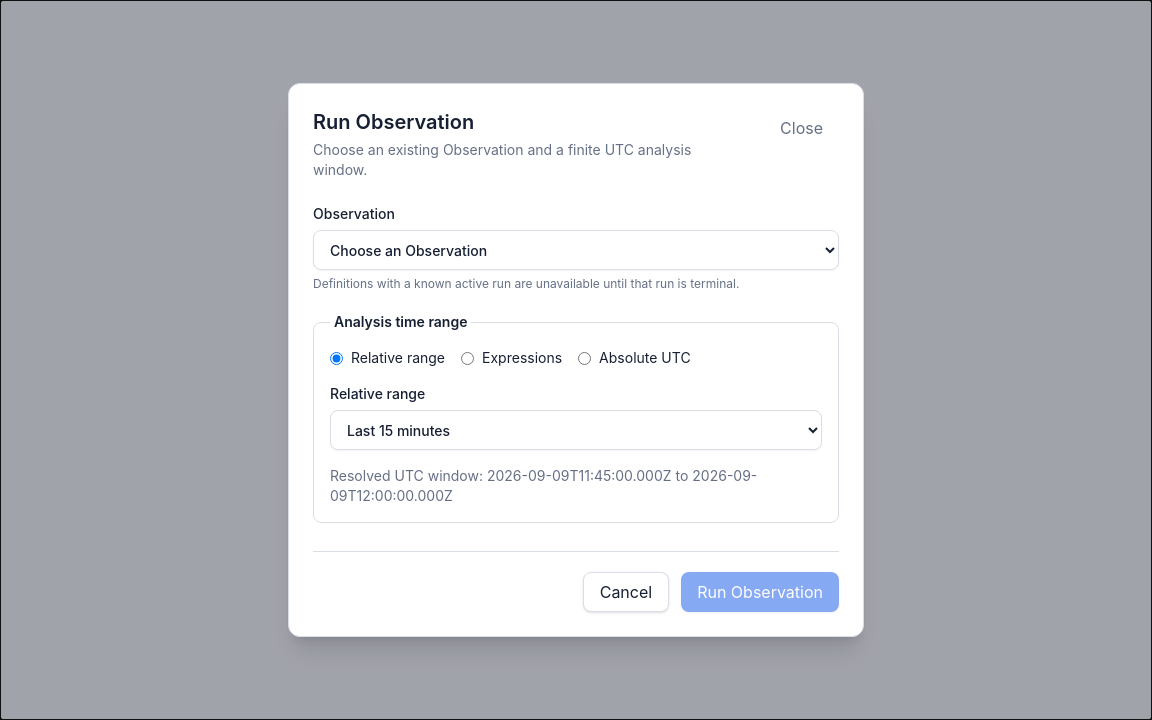
RunObservationDialog › requires complete absolute UTC fields and shows validation feedback before launch
This screenshot has width=1152, height=720.
Select "Never run first" in the dropdown named "Observation to run". click: [576, 250]
box: [313,230,839,270]
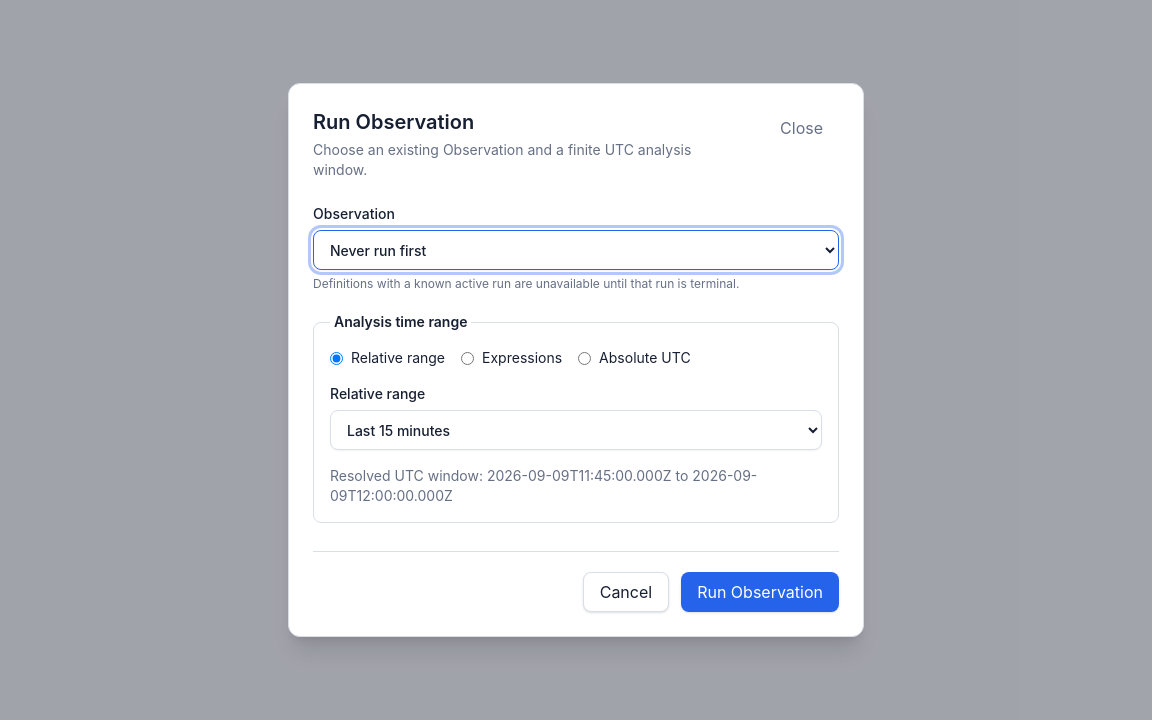
Click the radio button labelled "Absolute UTC". click: [585, 358]
box: [578,352,591,364]
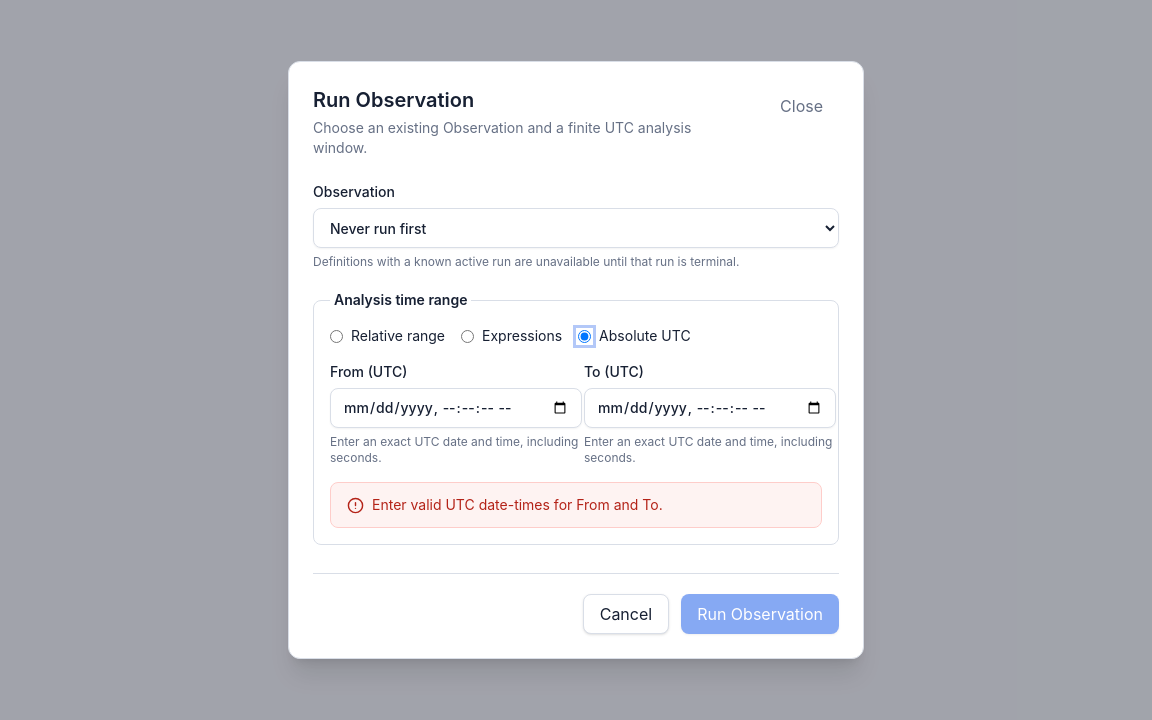
expect the field labelled "From (UTC)" is empty: met
expect the field labelled "To (UTC)" is empty: met, box [584,388,836,428]
expect the button "Run Observation" is disabled: met, box [681,594,839,634]
Type "2026-09-09T10:00:00" into the field labelled "From (UTC)". click: [456, 408]
box: [330,388,582,428]
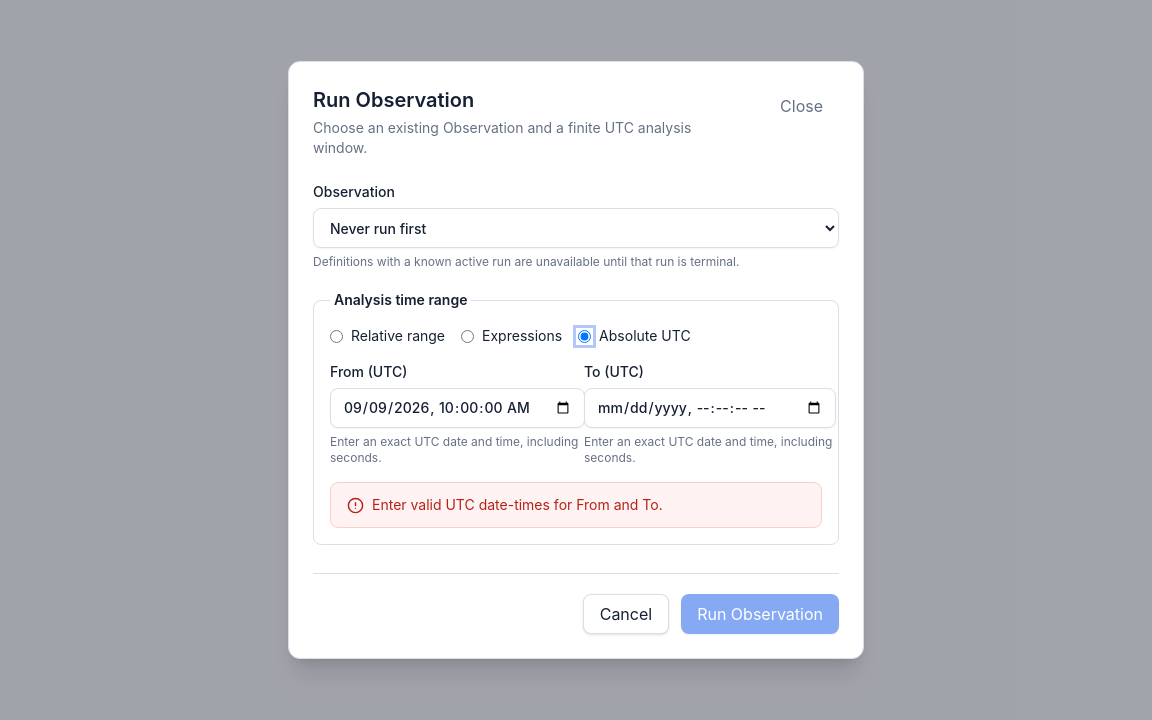
Type "2026-09-09T13:00:00" into the field labelled "To (UTC)". click: [710, 408]
box: [584,388,836,428]
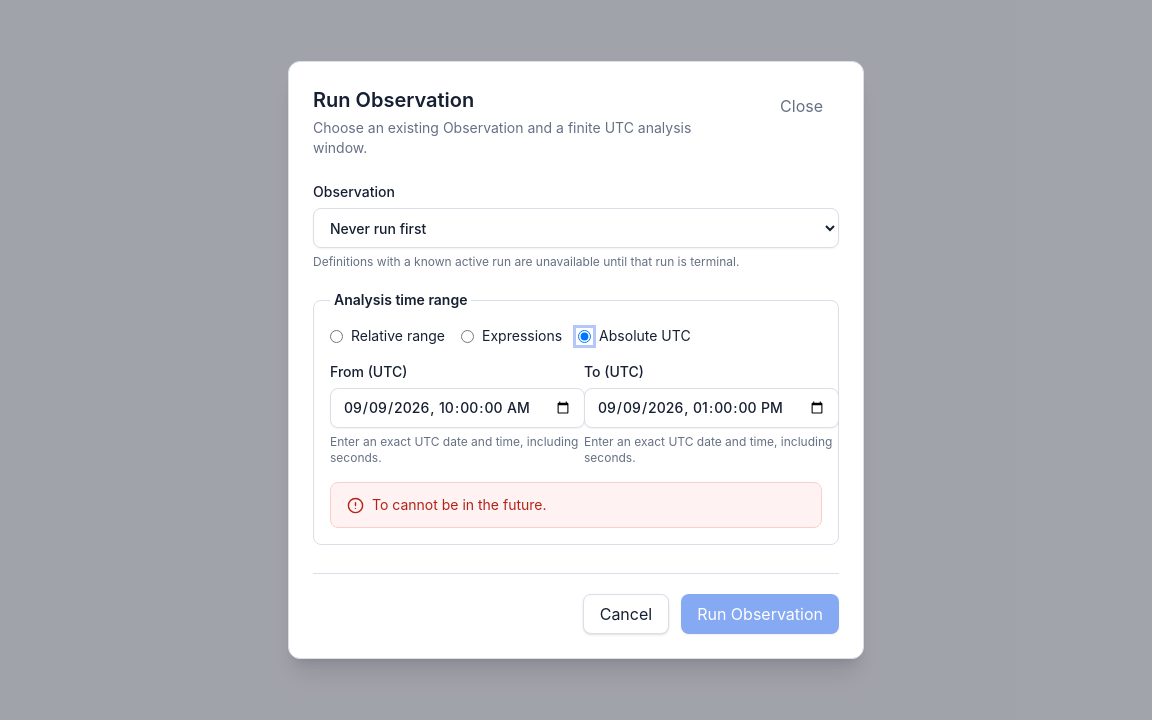
expect the button "Run Observation" is disabled: met, box [681,594,839,634]
expect the text "To cannot be in the future." is shown: met, box [372,495,546,515]
